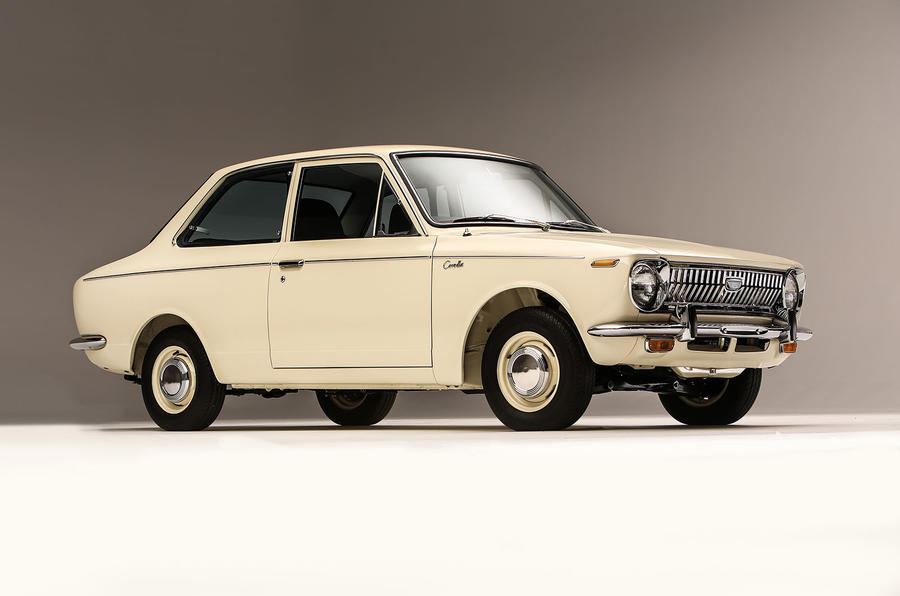sedan: (70, 140, 820, 431)
